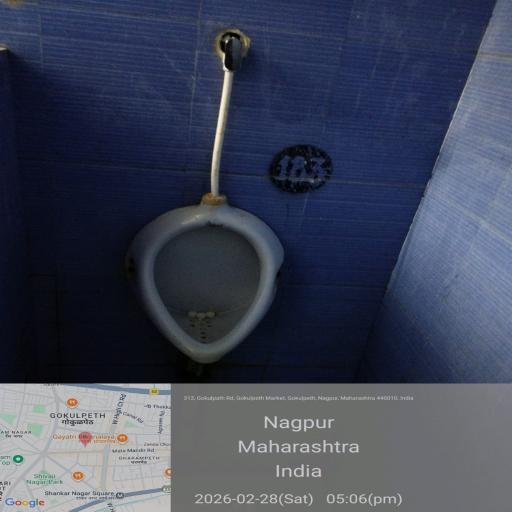clean_floor: (20, 2, 478, 178), (57, 360, 420, 512)
clean_urinal: (90, 160, 310, 353)
